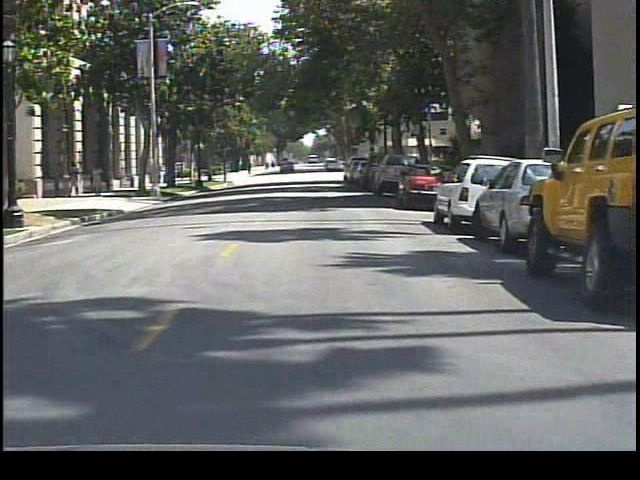person: (89, 160, 112, 199), (66, 158, 86, 200)
